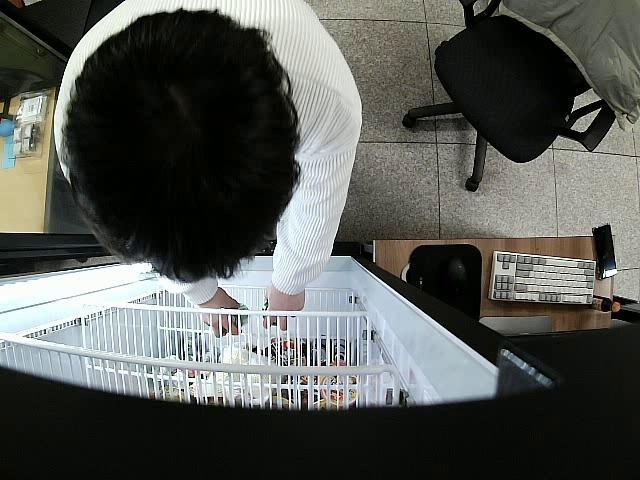12_chilsungCider: (221, 302, 249, 336), (262, 300, 277, 326)
